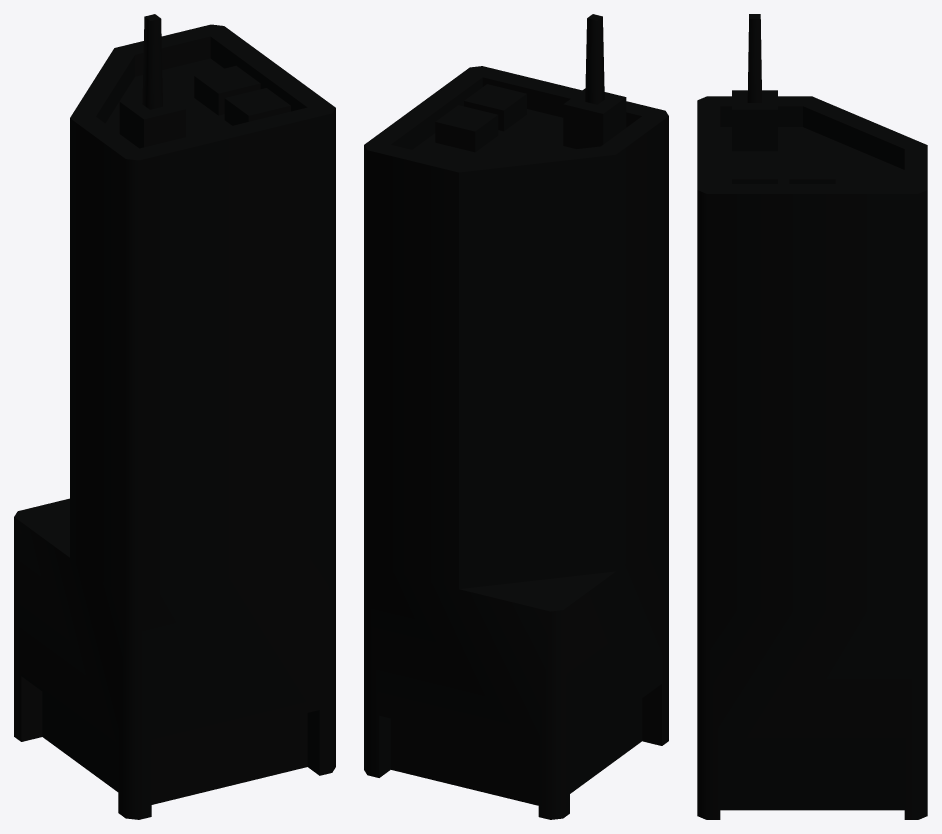
The model's file is low-detail-building-j.glb.
3 renders of one model, left to right at view 1: azimuth 30°, elevation 25°; view 2: azimuth 150°, elevation 25°; view 3: azimuth 270°, elevation 25°, orthographic. The views are drawn at different scales.
Parts seen in each view (by area): view 1: low-detail-building-j; view 2: low-detail-building-j; view 3: low-detail-building-j.
Part boxes in pixels (box(x1,y1,x2,y2)): low-detail-building-j: box(14, 14, 335, 819); low-detail-building-j: box(364, 14, 668, 819); low-detail-building-j: box(697, 14, 927, 819).
Bounding box in the file's own units: 0.5002 × 1.75 × 0.5002.
Materials: 1 (1 with a texture image).
